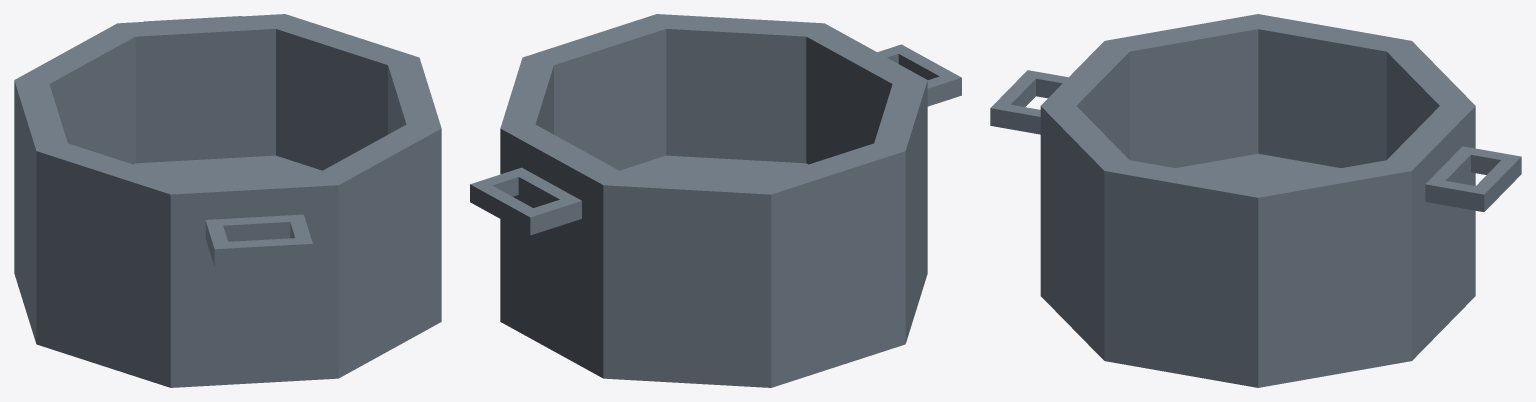
The model's file is CookingPot.fbx.
3 views of the same model, side by side, from view 1: azimuth 30°, elevation 25°; view 2: azimuth 150°, elevation 25°; view 3: azimuth 270°, elevation 25° (orthographic).
Parts seen in each view (by area): view 1: CookingPot; view 2: CookingPot; view 3: CookingPot.
Part boxes in pixels (box(x1,y1,x2,y2)): CookingPot: box(14, 14, 441, 387); CookingPot: box(470, 14, 961, 387); CookingPot: box(990, 14, 1521, 387).
Size of the model in its own units: 159 by 76.87 by 195.
